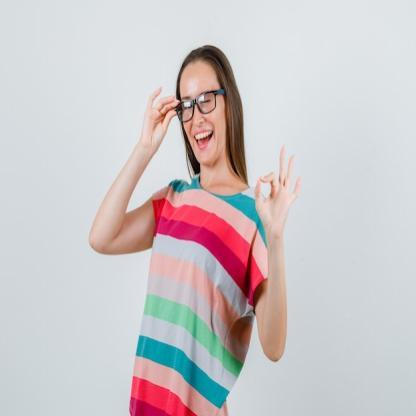ok: (251, 137, 304, 239)
